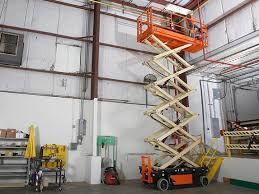Scissor Lift: (135, 6, 210, 192)
